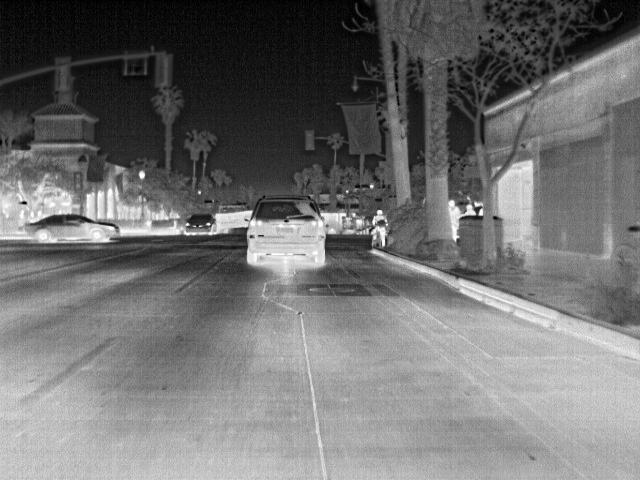car: (244, 191, 327, 268), (21, 213, 119, 245), (184, 212, 220, 236)
person: (369, 208, 388, 248), (448, 198, 464, 243), (460, 202, 477, 216)
